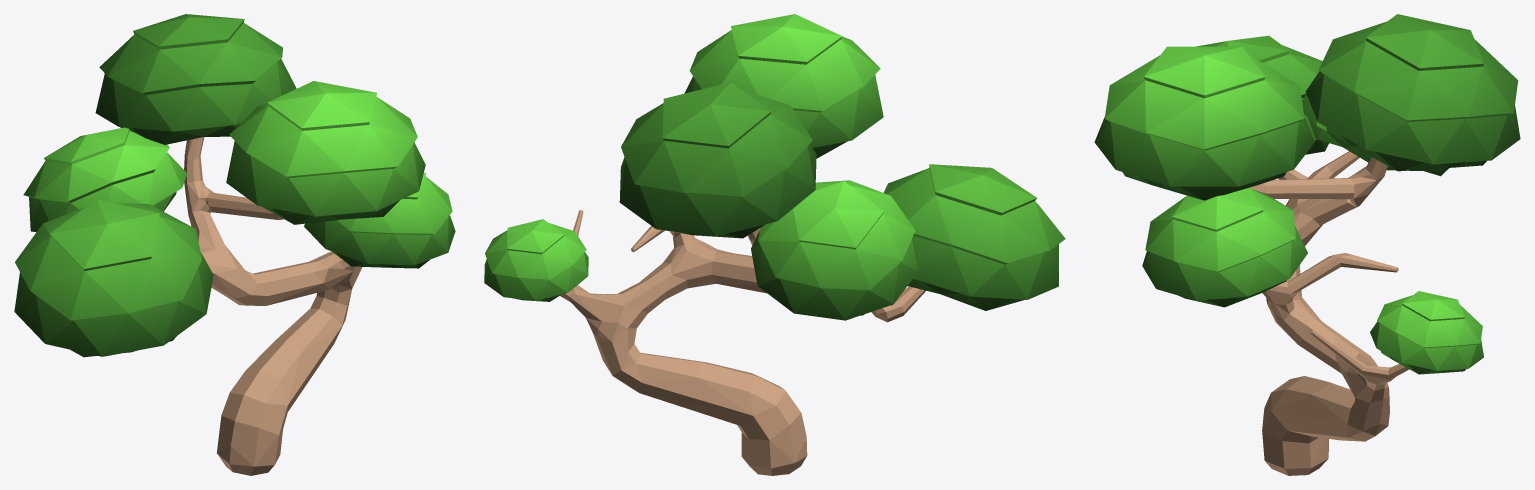
The model's file is New_Tree1.fbx.
The picture shows the model from 3 angles, left to right: view 1: azimuth 30°, elevation 25°; view 2: azimuth 150°, elevation 25°; view 3: azimuth 270°, elevation 25°; orthographic projection. The views are drawn at different scales.
Parts seen in each view (by area): view 1: Leaves.003, Leaves, Cube, Leaves.001, Leaves.004, Leaves.002; view 2: Leaves.001, Cube, Leaves.003, Leaves.004, Leaves, Leaves.005; view 3: Leaves, Leaves.001, Cube, Leaves.002, Leaves.005, Leaves.003, Leaves.004.
Boxes of the visible parts, left/top/right/bottom form: Leaves.003: left=14, top=199, right=213, bottom=357; Leaves: left=226, top=81, right=425, bottom=224; Cube: left=184, top=137, right=362, bottom=475; Leaves.001: left=95, top=14, right=296, bottom=144; Leaves.004: left=23, top=127, right=187, bottom=232; Leaves.002: left=304, top=172, right=455, bottom=268; Leaves.001: left=619, top=82, right=816, bottom=238; Cube: left=560, top=210, right=925, bottom=475; Leaves.003: left=883, top=164, right=1065, bottom=310; Leaves.004: left=751, top=180, right=918, bottom=320; Leaves: left=684, top=14, right=883, bottom=158; Leaves.005: left=484, top=219, right=588, bottom=301; Leaves: left=1094, top=46, right=1314, bottom=200; Leaves.001: left=1305, top=14, right=1520, bottom=171; Cube: left=1250, top=151, right=1409, bottom=475; Leaves.002: left=1142, top=187, right=1307, bottom=307; Leaves.005: left=1370, top=291, right=1483, bottom=374; Leaves.003: left=1196, top=35, right=1328, bottom=154; Leaves.004: left=1302, top=71, right=1448, bottom=176.
Size of the model in its own units: 459 by 384 by 336.
2 materials, 1 textured.
